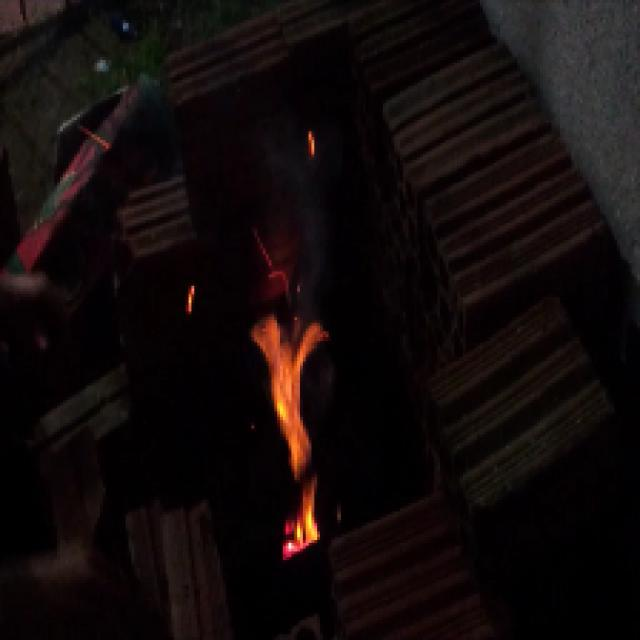Fire: (257, 290, 348, 576)
